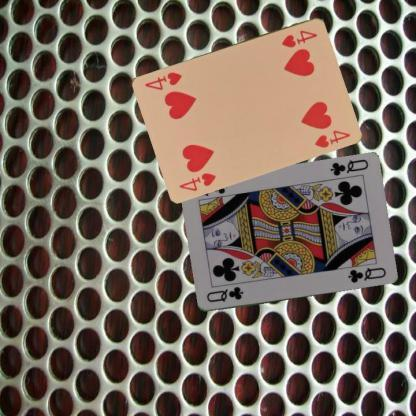4h: (278, 26, 318, 50), (177, 170, 218, 192)
Qc: (327, 156, 370, 178), (204, 284, 244, 304)
